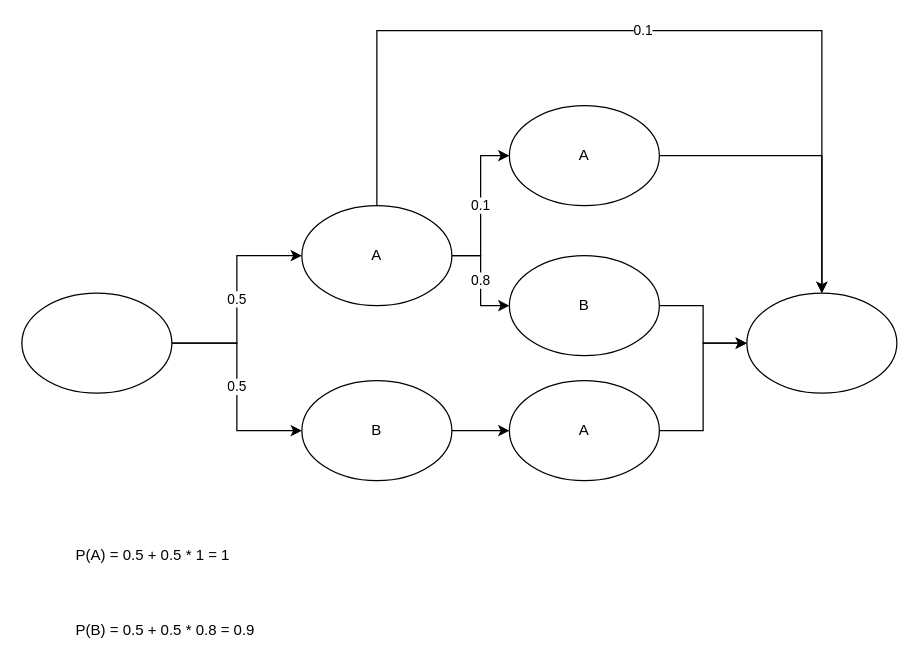
This 919x665 diagram has some shape labels left out. Here are the shapes that lost their labels. From the top down, the box of each, then its label:
(21, 292, 172, 393): START
(746, 292, 897, 393): END
